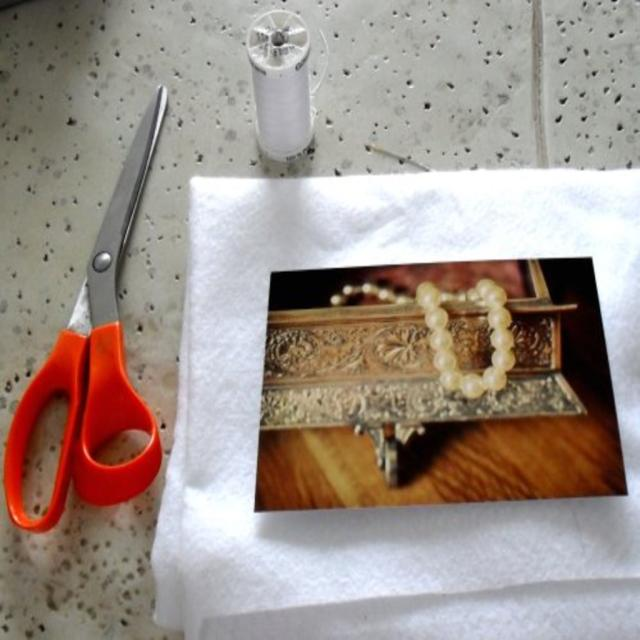scissors: (2, 83, 168, 533)
